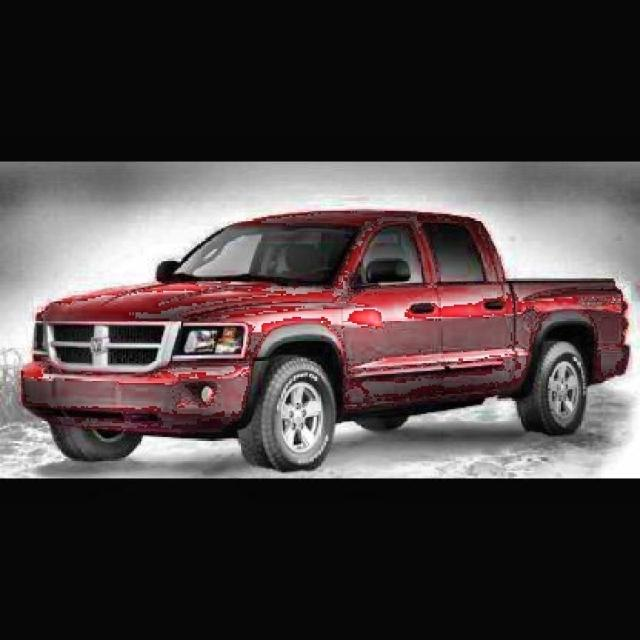maroon: (23, 210, 632, 468)
